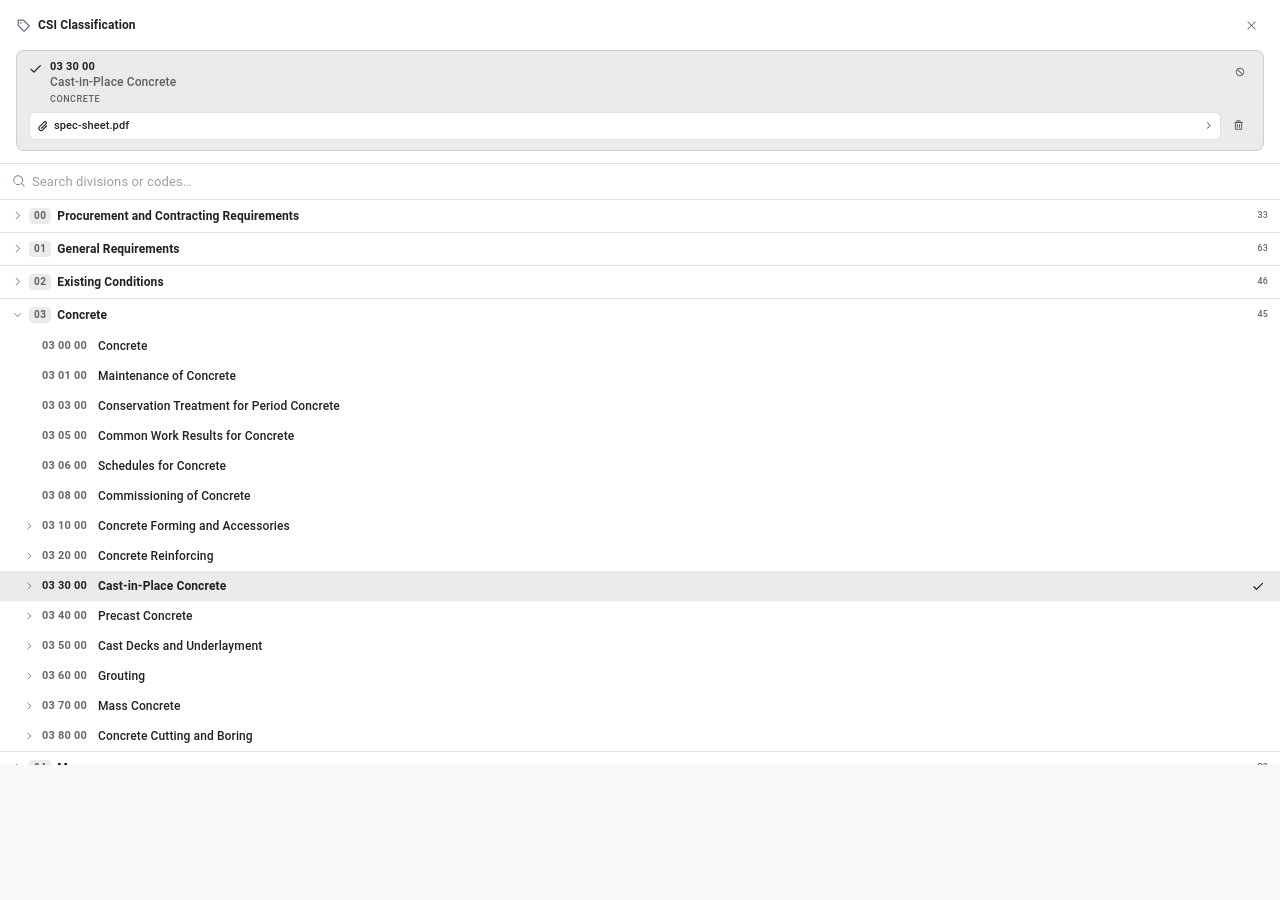
Test: CsiCodePanel — spec document banner › shows a loading spinner while removing the document
Click the button named "remove spec document": (1238,126) x1=1225 y1=113 x2=1251 y2=139
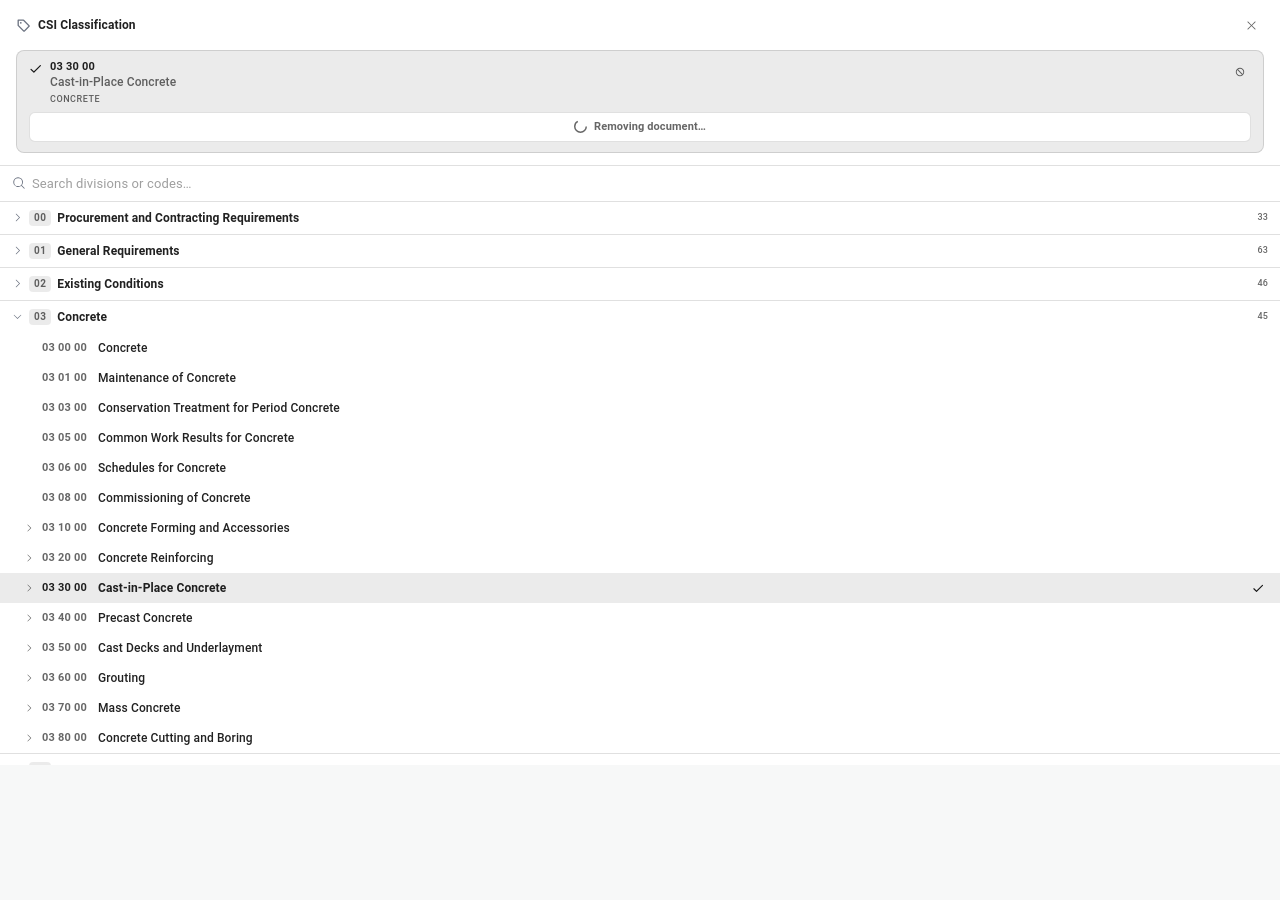
Now the element with test id "doc-loading" is shown, box x1=29 y1=112 x2=1251 y2=142
